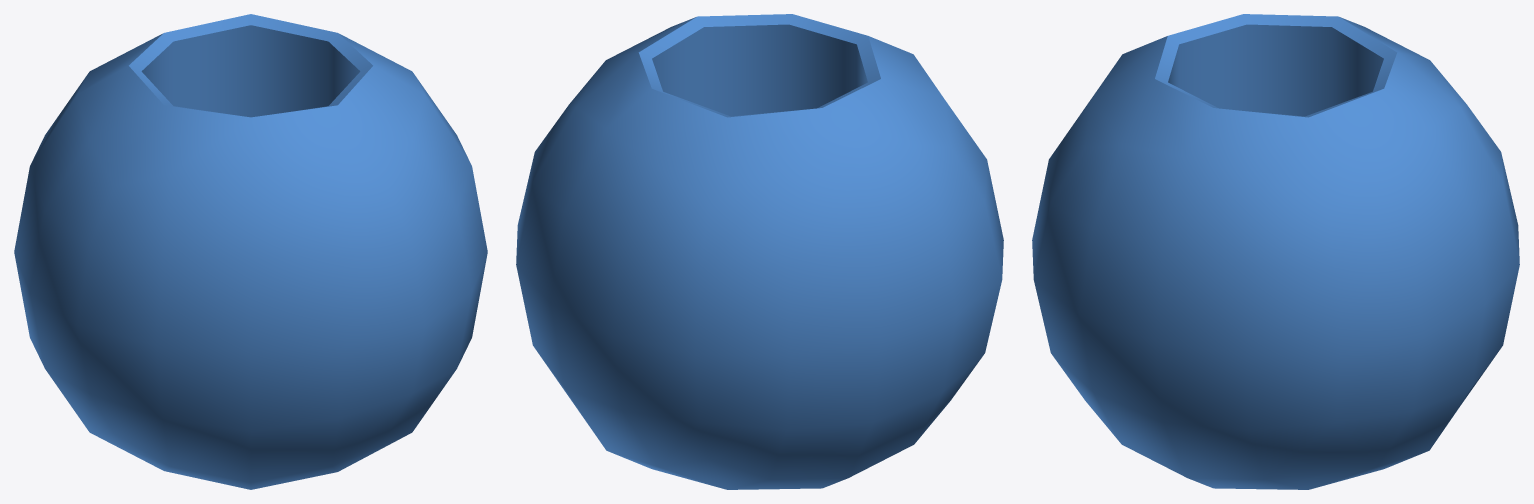
File: Toy_Ball_2.glb
3 views of the same model, side by side, from view 1: azimuth 30°, elevation 25°; view 2: azimuth 150°, elevation 25°; view 3: azimuth 270°, elevation 25° (orthographic). The views are drawn at different scales.
Parts seen in each view (by area): view 1: Toy_Ball_2; view 2: Toy_Ball_2; view 3: Toy_Ball_2.
Part boxes in pixels (x1,y1,x2,y2): Toy_Ball_2: [14, 14, 487, 489]; Toy_Ball_2: [516, 14, 1003, 489]; Toy_Ball_2: [1032, 14, 1519, 489].
Size of the model in its own units: 0.0595 by 0.0512 by 0.0595.
Materials: 1 (1 with a texture image).
